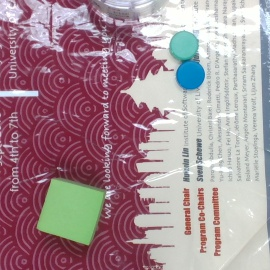blue: (175, 60, 206, 91)
green: (169, 30, 199, 60)
